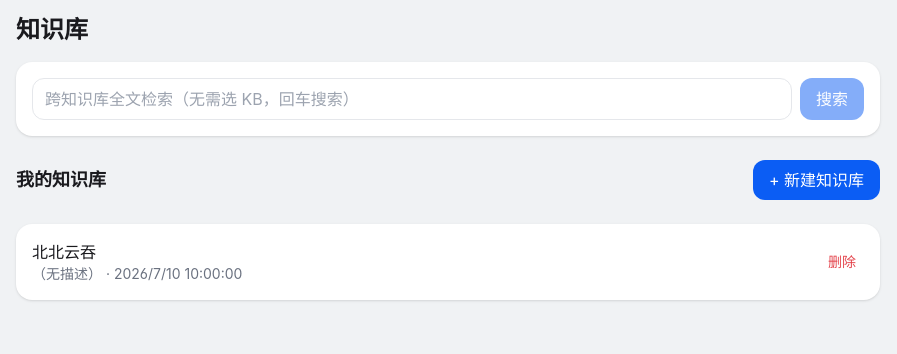
Test case: KnowledgeList — global cross-KB search (v0.6 P1.3) › shows an empty hint when the API returns zero hits
The image size is (897, 354).
Type "no-match" into the search field with placeholder "跨知识库全文检索（无需选 KB，回车搜索）".
click(412, 99); type("no-match")  # box [32,78,792,120]
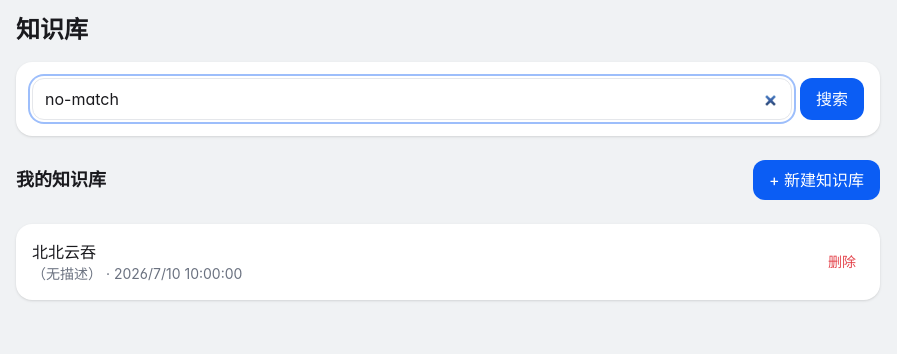
Press Enter
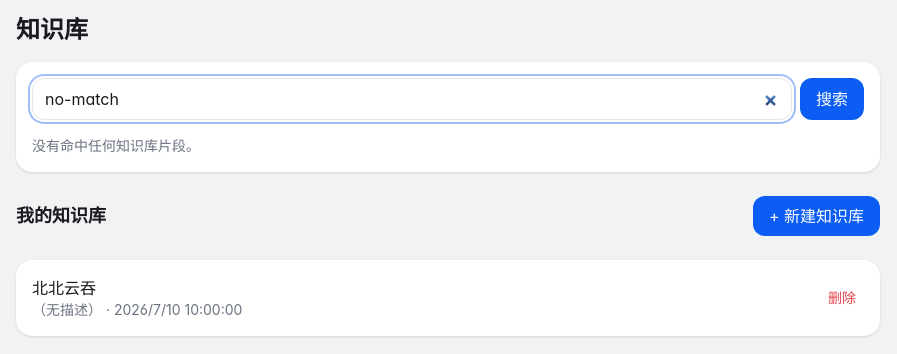
Expected: the text "没有命中任何知识库片段。" is shown, [32,137,200,154]
